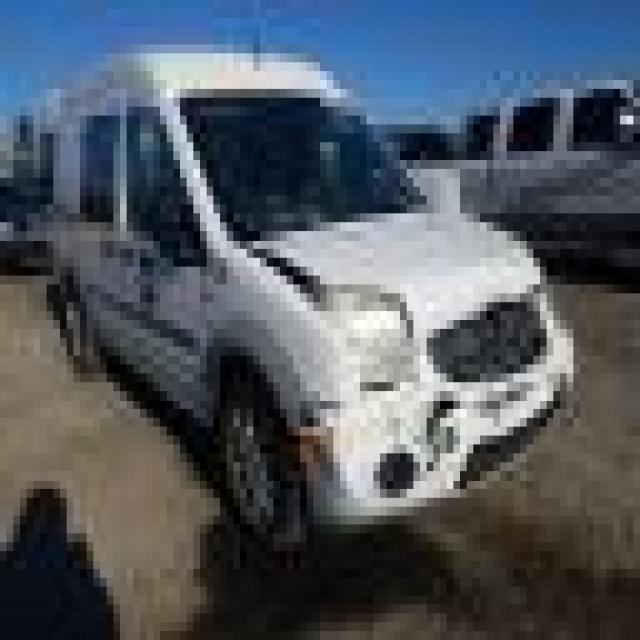minor: (442, 274, 558, 455), (263, 242, 327, 312)
